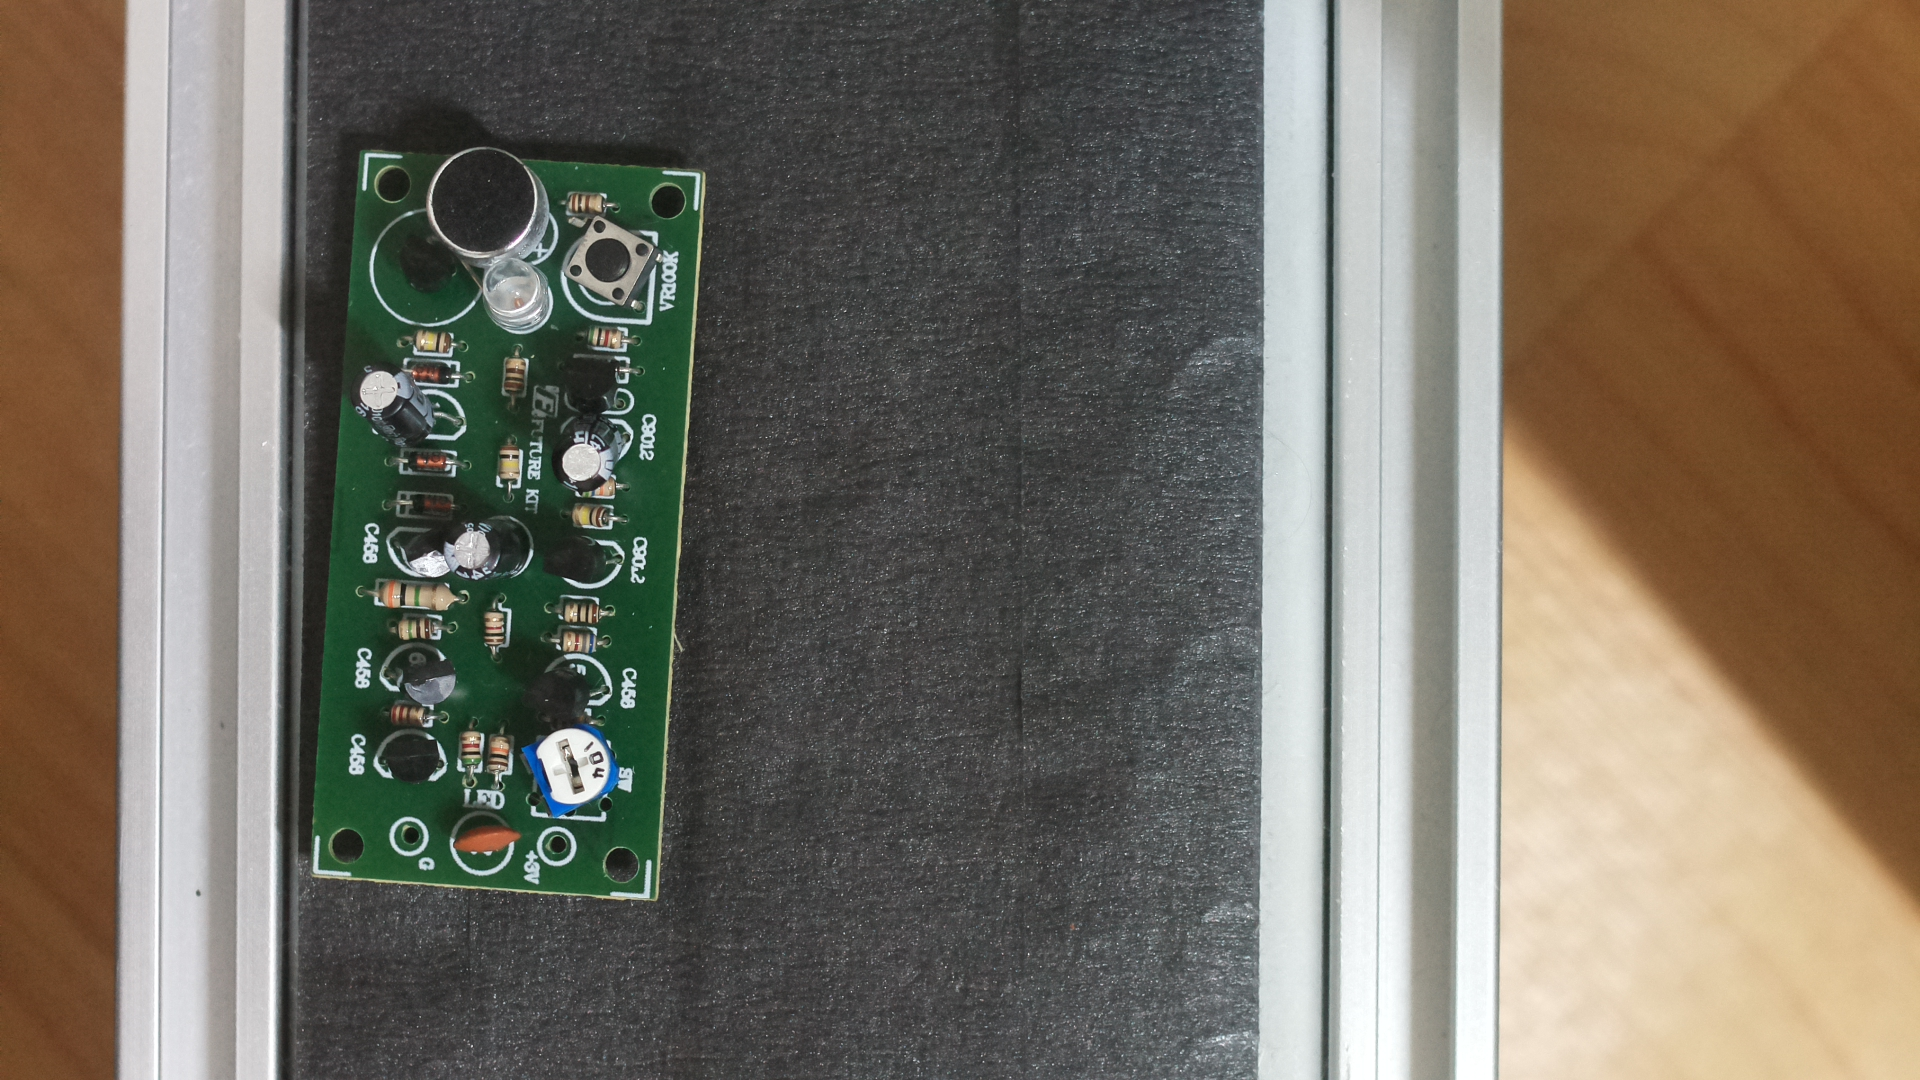A_Misordered: (303, 113, 713, 934)
